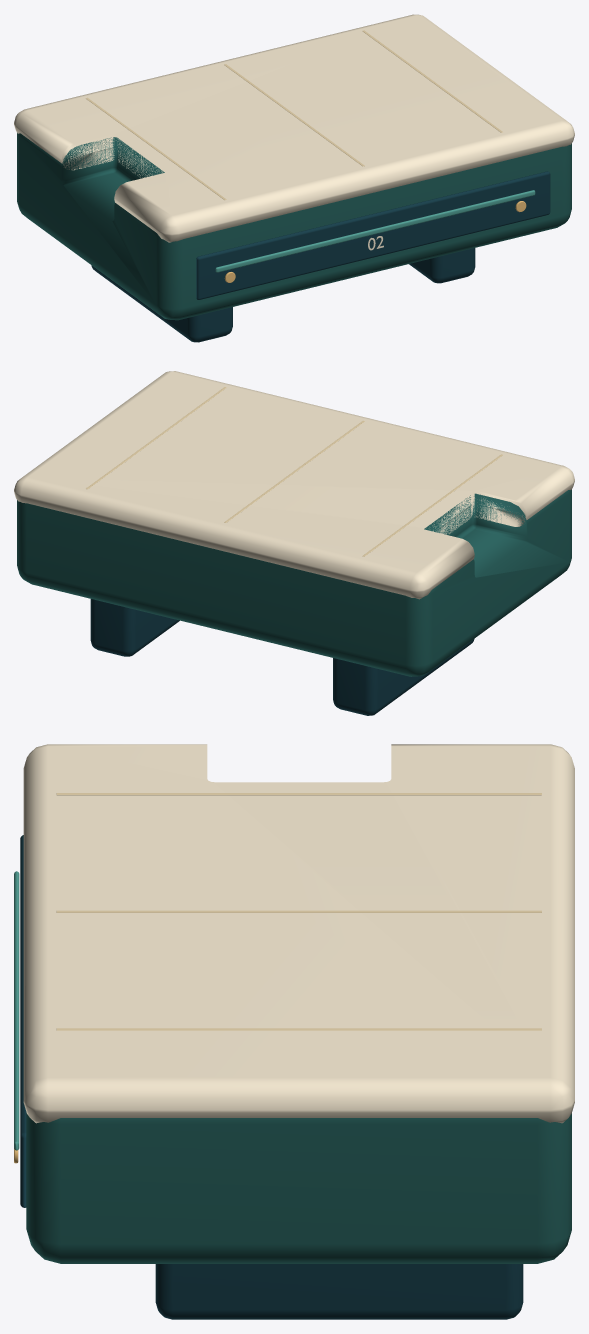
The model's file is floor_right.glb.
3 renders of one model, top to bottom at view 1: azimuth 30°, elevation 25°; view 2: azimuth 150°, elevation 25°; view 3: azimuth 270°, elevation 25°, orthographic. The views are drawn at different scales.
Visible parts, largest first — view 1: floor_right_mesh; view 2: floor_right_mesh; view 3: floor_right_mesh.
Part boxes in pixels (x1,y1,x2,y2): floor_right_mesh: (14, 14, 574, 342); floor_right_mesh: (14, 371, 574, 715); floor_right_mesh: (14, 744, 574, 1319).
Bounding box in the file's own units: 2.9 × 1.12 × 1.95.
